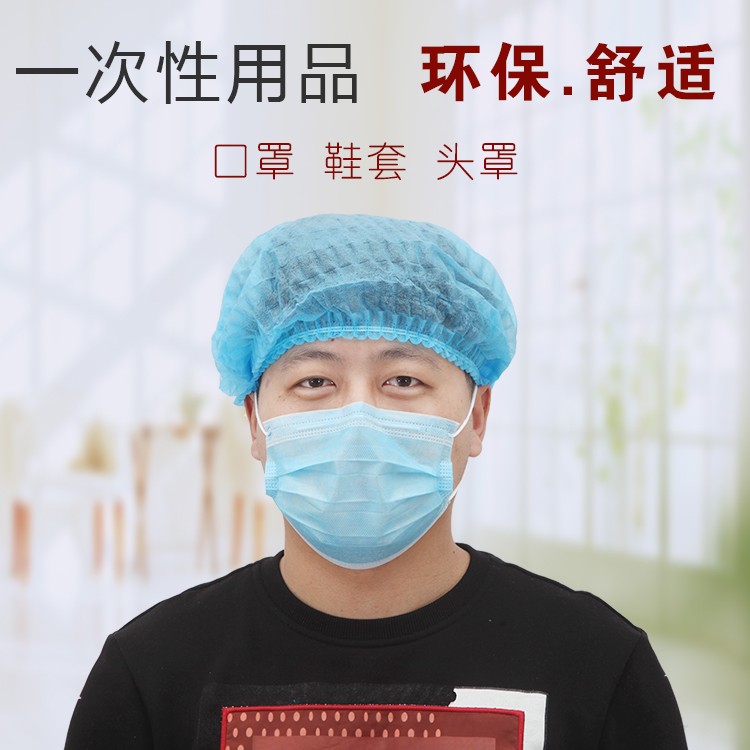face_mask: (255, 293, 471, 553)
